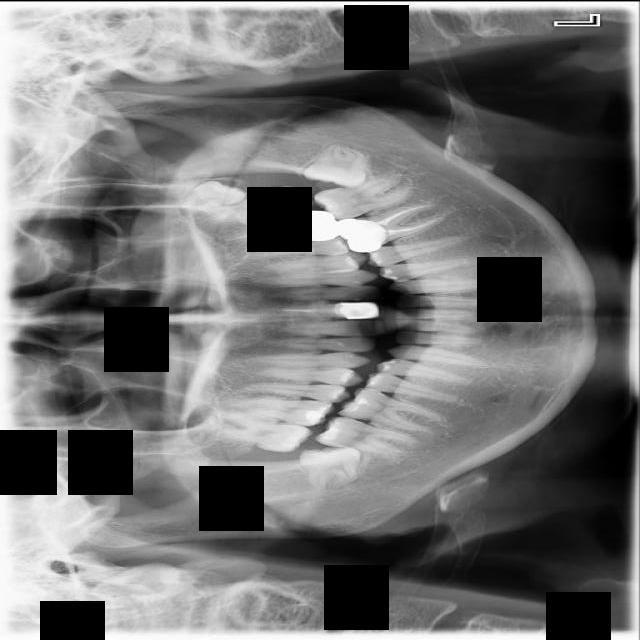52: (332, 201, 391, 262), (334, 376, 392, 434), (310, 175, 368, 233), (313, 404, 365, 458), (262, 181, 315, 217), (255, 423, 314, 452), (288, 210, 342, 240), (283, 398, 335, 426), (318, 248, 368, 273), (320, 365, 364, 388), (328, 302, 384, 320), (364, 243, 404, 268), (312, 231, 349, 256), (330, 284, 380, 300), (310, 383, 351, 402), (364, 370, 399, 392), (378, 263, 416, 282), (377, 357, 413, 375)
73: (370, 195, 446, 244), (219, 213, 298, 246), (276, 303, 334, 319), (544, 41, 550, 44)
BioHorizons Implant: (193, 182, 315, 226)
BioLife Implant: (174, 171, 248, 218)
Biomet 3i Implant: (303, 135, 373, 191)
Blue Sky Bio Implant: (310, 165, 418, 227)
Caries: (198, 403, 314, 458)
Implant: (312, 410, 419, 461)
Keystone Dental Implant: (298, 441, 365, 493)
